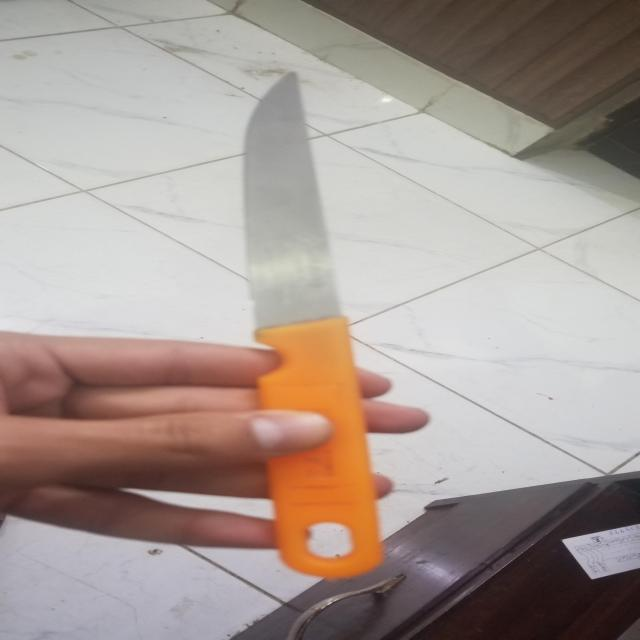Knife: (244, 73, 394, 579)
Person: (0, 330, 432, 551)
